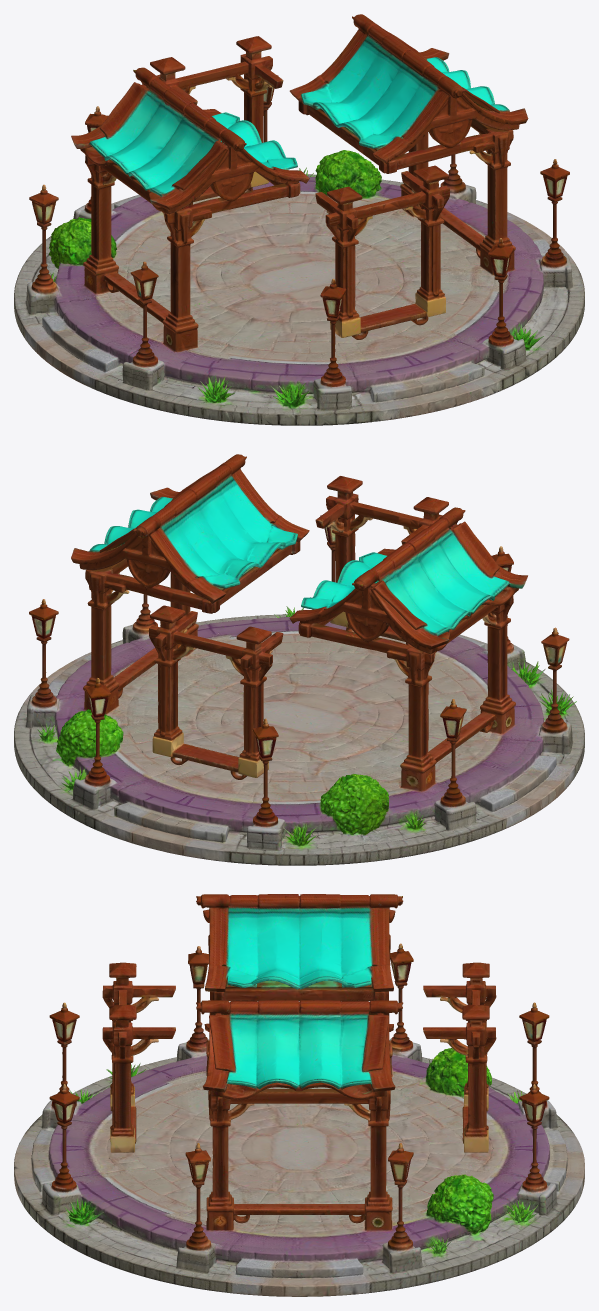
Rendered from plaza_kit_draco.glb.
The picture shows the model from 3 angles, top to bottom: view 1: azimuth 30°, elevation 25°; view 2: azimuth 150°, elevation 25°; view 3: azimuth 270°, elevation 25°; orthographic projection.
Bounding box in the file's own units: 1.9 × 0.8414 × 1.9.
1 material, 1 textured.
